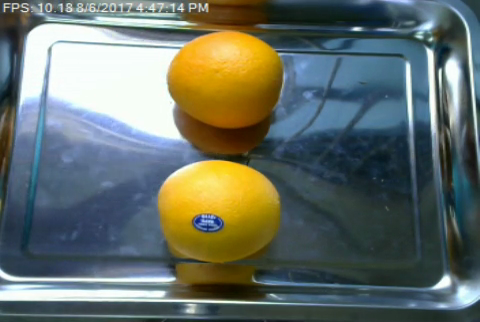Orange: (154, 159, 280, 260), (166, 30, 283, 128)
